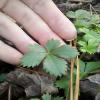Strawberry leaf: (43, 53, 67, 77), (16, 52, 48, 69), (52, 45, 80, 59)
